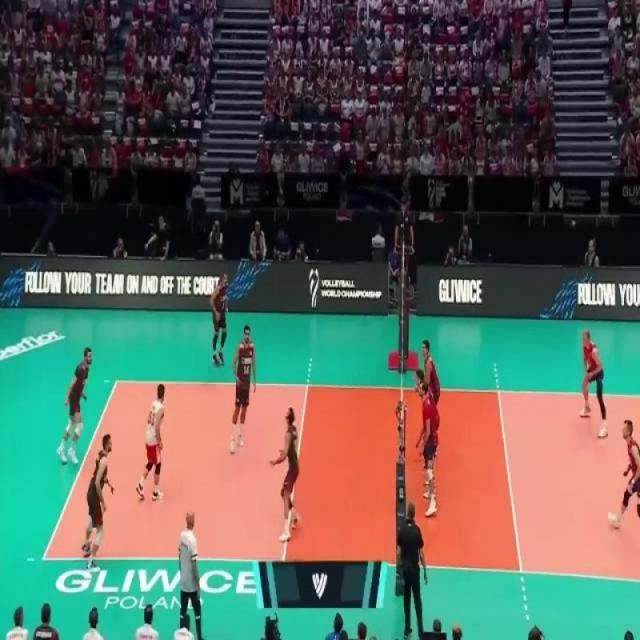volleyball: (569, 218, 577, 232)
